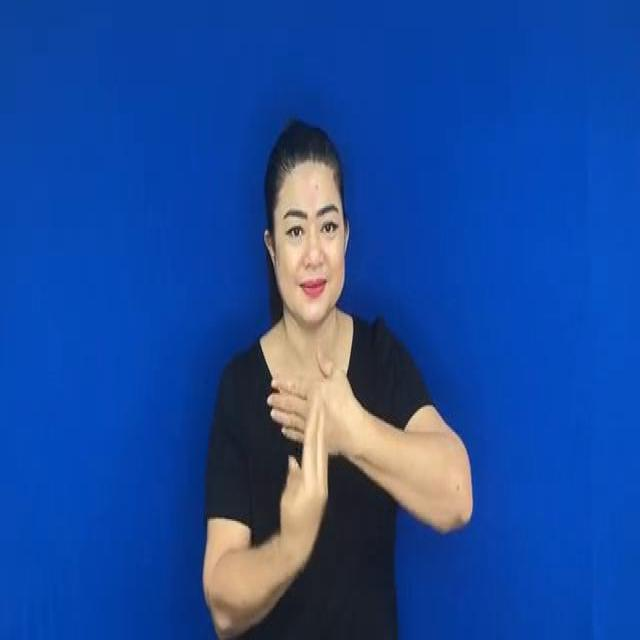bread: (262, 361, 365, 544)
